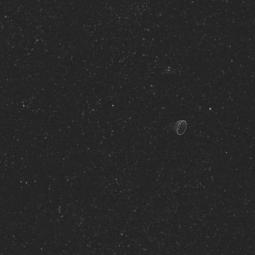debris: (165, 116, 189, 138)
